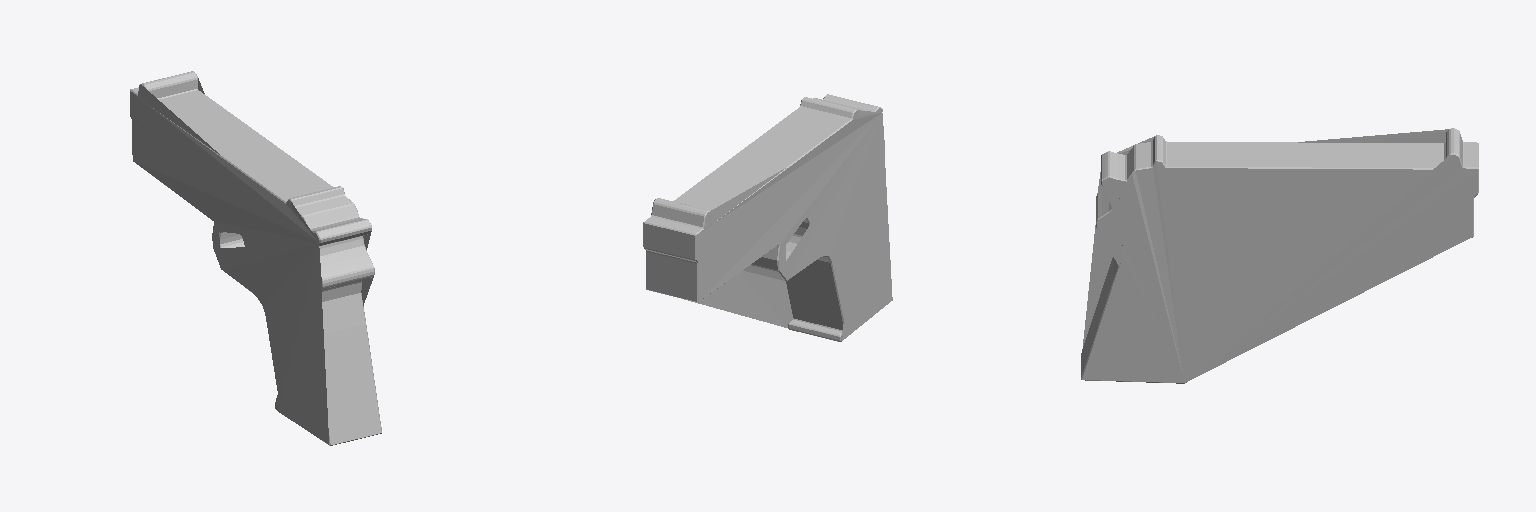
The model's file is Pistol.obj.
3 renders of one model, left to right at view 1: azimuth 30°, elevation 25°; view 2: azimuth 150°, elevation 25°; view 3: azimuth 270°, elevation 25°, orthographic.
Parts seen in each view (by area): view 1: Pistol_Gun.001; view 2: Pistol_Gun.001; view 3: Pistol_Gun.001.
Boxes of the visible parts, x1,y1,x2,y2 form: Pistol_Gun.001: [130, 71, 381, 445]; Pistol_Gun.001: [643, 94, 892, 341]; Pistol_Gun.001: [1081, 128, 1478, 383].
Size of the model in its own units: 0.5062 by 2.04 by 3.21.